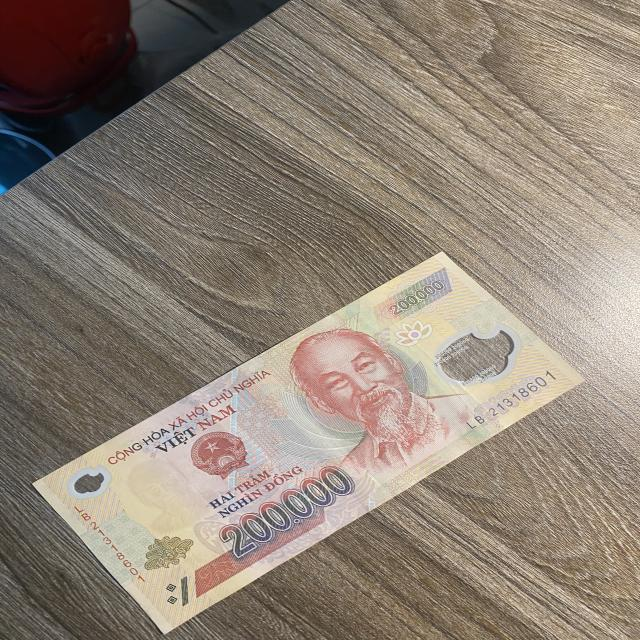200 000 VND: (28, 238, 585, 640)
